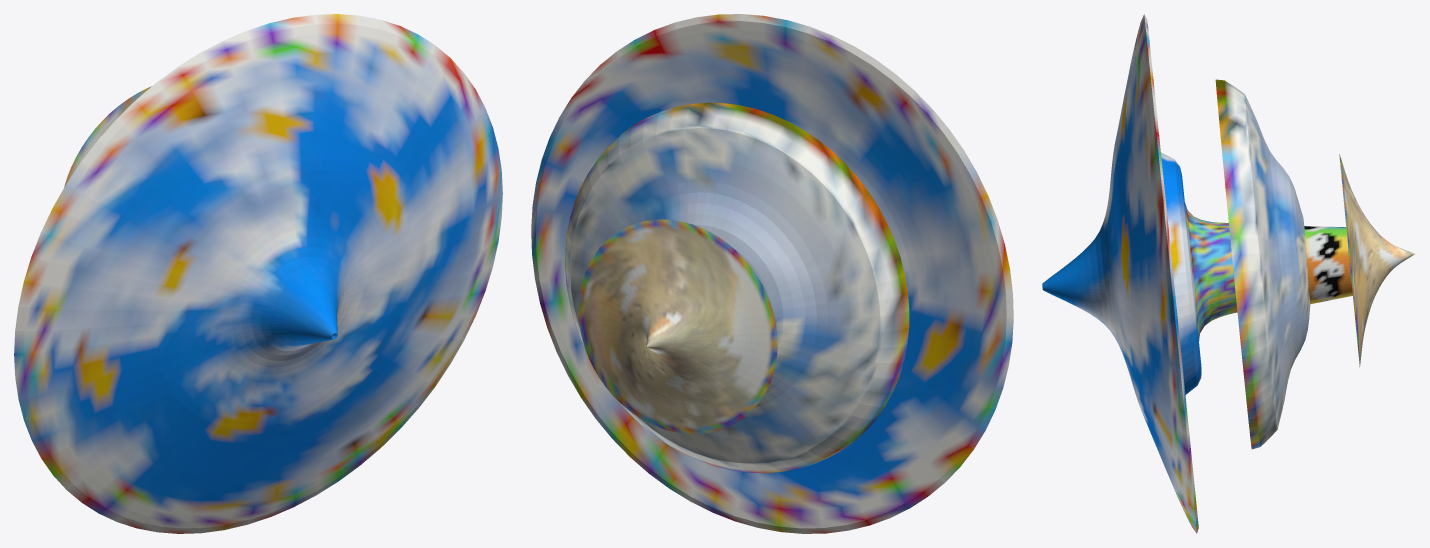
The model's file is april28outdoorpagoda17.glb.
3 renders of one model, left to right at view 1: azimuth 30°, elevation 25°; view 2: azimuth 150°, elevation 25°; view 3: azimuth 270°, elevation 25°, orthographic. The views are drawn at different scales.
Visible parts, largest first — view 1: Lathe 4, Lathe; view 2: Lathe 4, Lathe 3, Lathe; view 3: Lathe 4, Lathe 3, Lathe, Lathe.001.
Part boxes in pixels (x1,y1,x2,y2): Lathe 4: (14, 14, 502, 533); Lathe: (64, 86, 151, 187); Lathe 4: (531, 14, 1013, 533); Lathe 3: (565, 102, 909, 473); Lathe: (578, 219, 777, 433); Lathe 4: (1042, 14, 1237, 533); Lathe 3: (1215, 79, 1310, 449); Lathe: (1339, 154, 1414, 367); Lathe.001: (1304, 226, 1352, 304).
Size of the model in its own units: 3.74 by 3.73 by 2.67.
